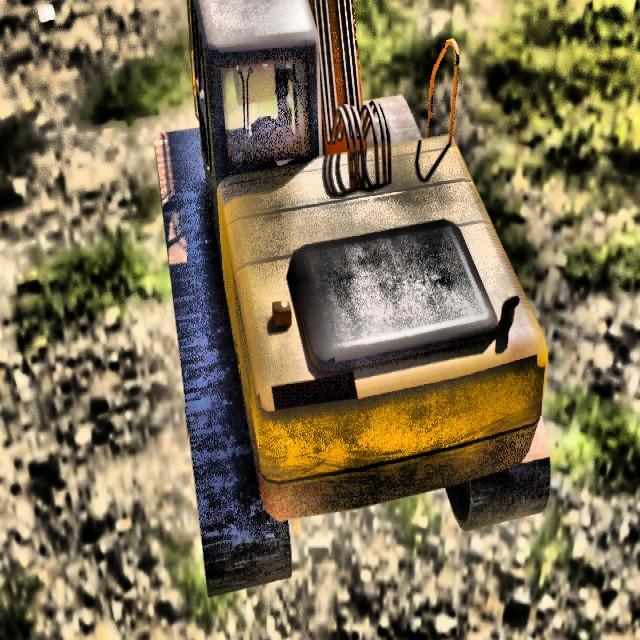excavator: (153, 0, 551, 598)
